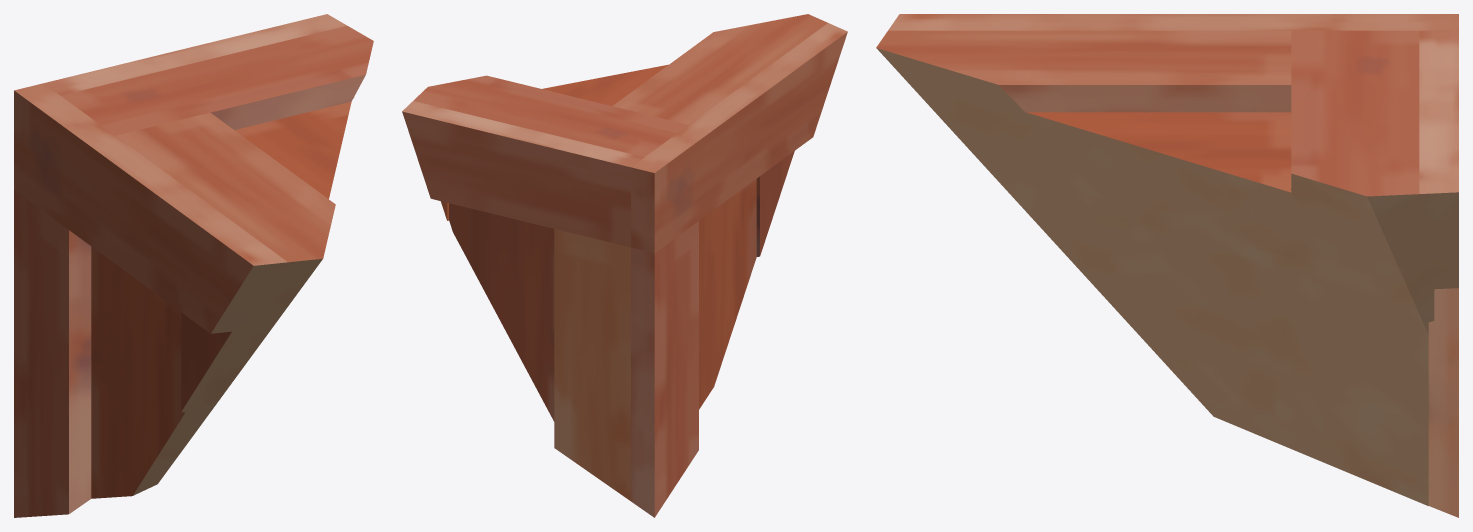
File: crate_s07.fbx
3 views of the same model, side by side, from view 1: azimuth 30°, elevation 25°; view 2: azimuth 150°, elevation 25°; view 3: azimuth 270°, elevation 25° (orthographic). The views are drawn at different scales.
Visible parts, largest first — view 1: crate_s07; view 2: crate_s07; view 3: crate_s07.
Part boxes in pixels (box(x1,y1,x2,y2)): crate_s07: box(14, 14, 373, 517); crate_s07: box(402, 14, 847, 517); crate_s07: box(876, 14, 1458, 517).
Size of the model in its own units: 1.42 by 1.81 by 1.91.
